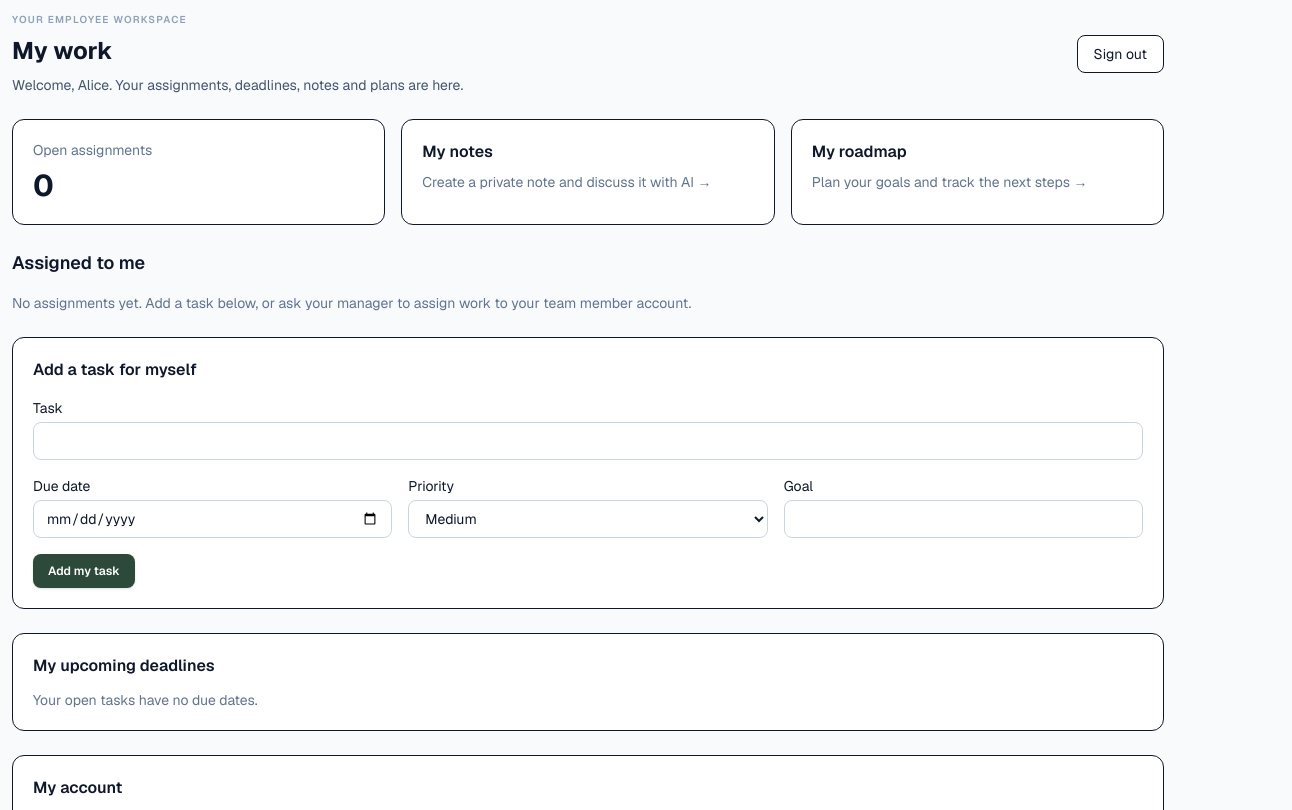
Test: shows failed saves without losing the employee's task draft
Type "Follow up after workshop" into the field labelled "Task" at (588, 441), box [33,422,1143,460]
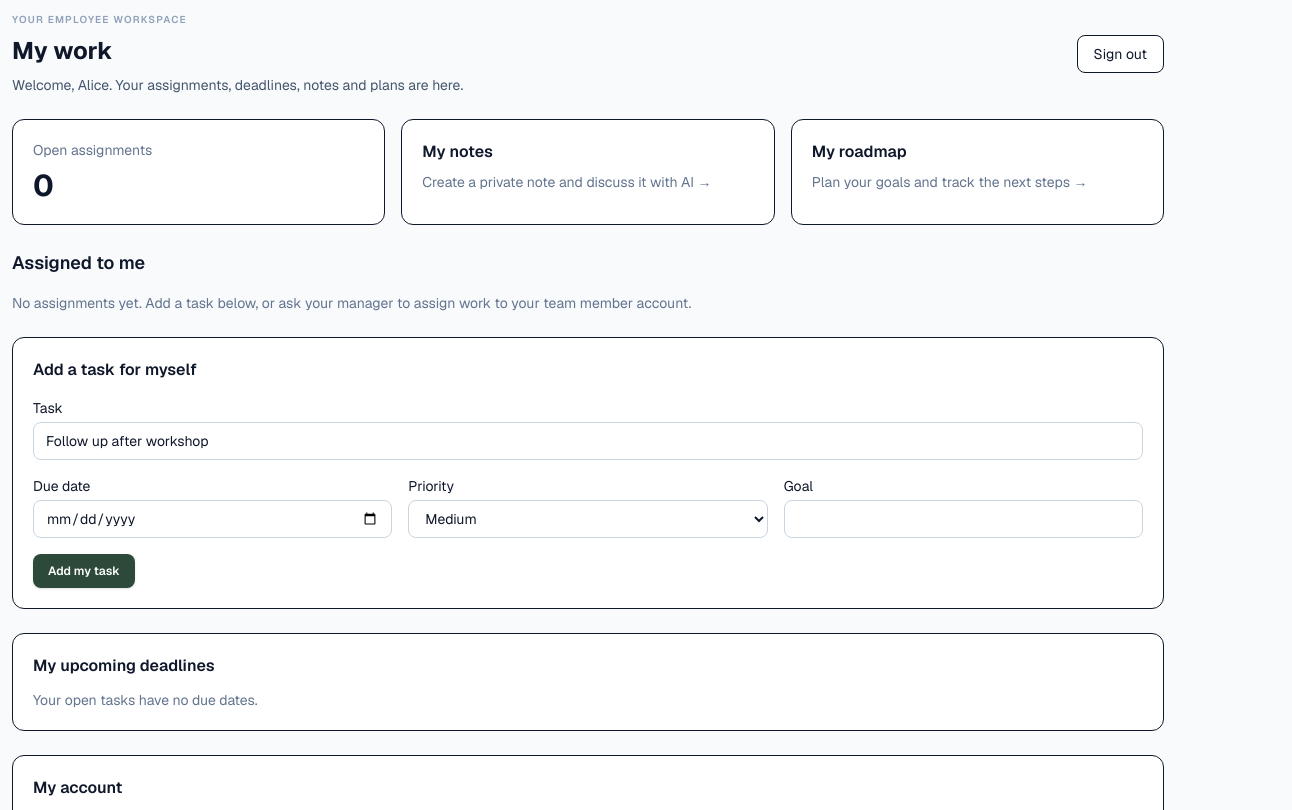
Click the button "Add my task" at (84, 571), box [33,554,135,588]
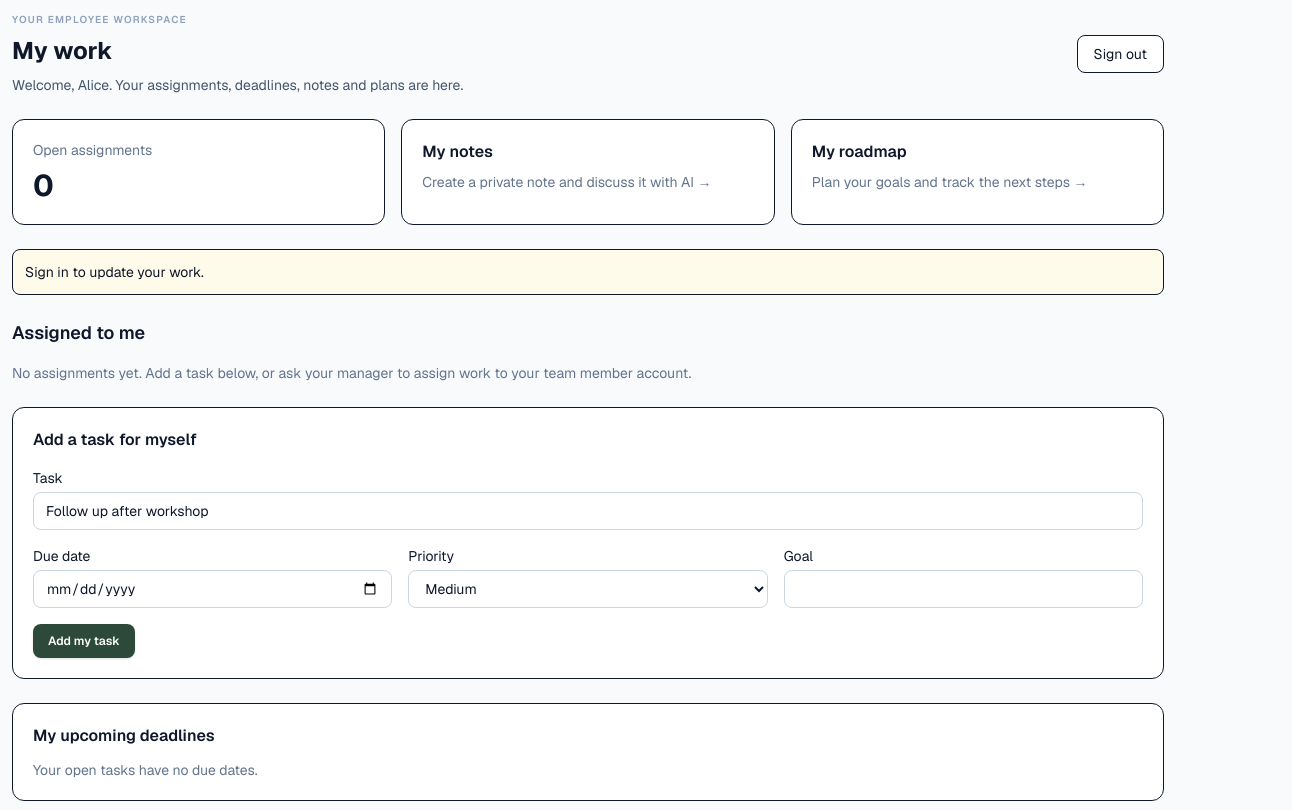
Now the message reads "Sign in to update your work.", box [25,263,204,281]
